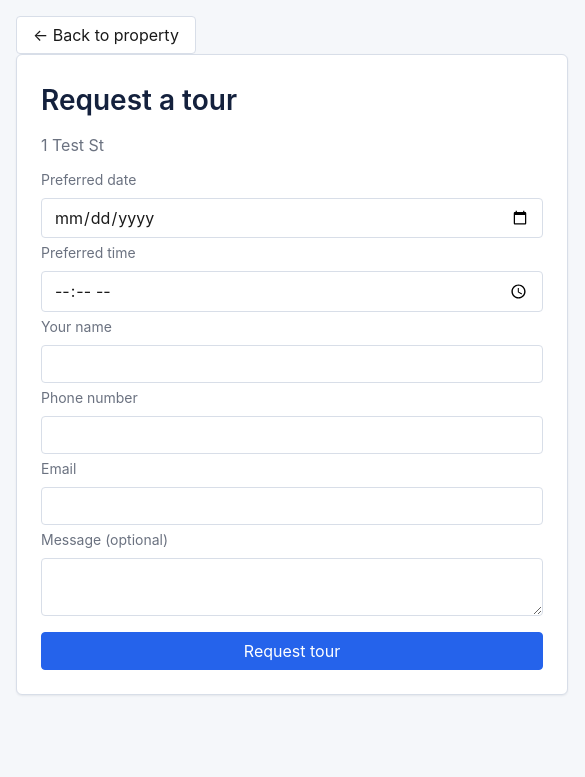
Test: TourRequestPage › shows the request was received even when the confirmation email could not be sent
This screenshot has width=585, height=777.
Expected: the text "1 Test St" is shown, [41,135,104,155]
Type "2026-10-01" into the date field labelled "Preferred date".
click(292, 218); type("2026-10-01")  # box [41,198,543,238]
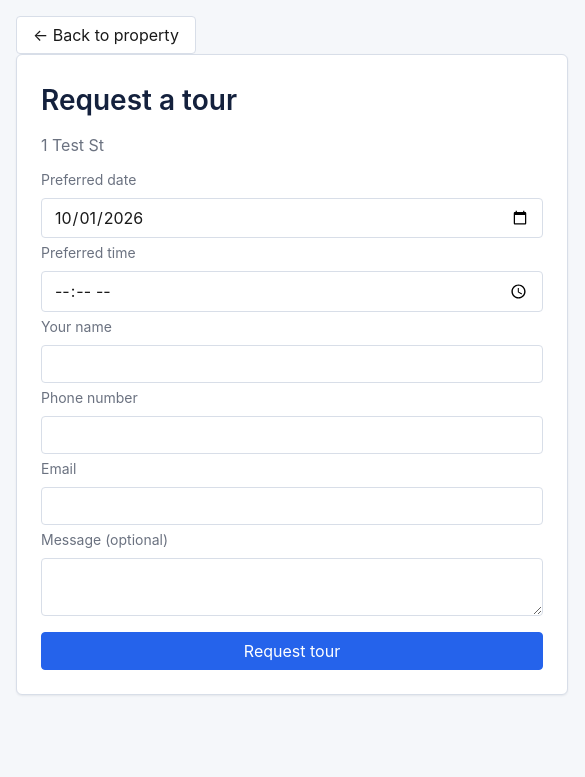
Type "14:30" into the time field labelled "Preferred time".
click(292, 291); type("14:30")  # box [41,271,543,312]
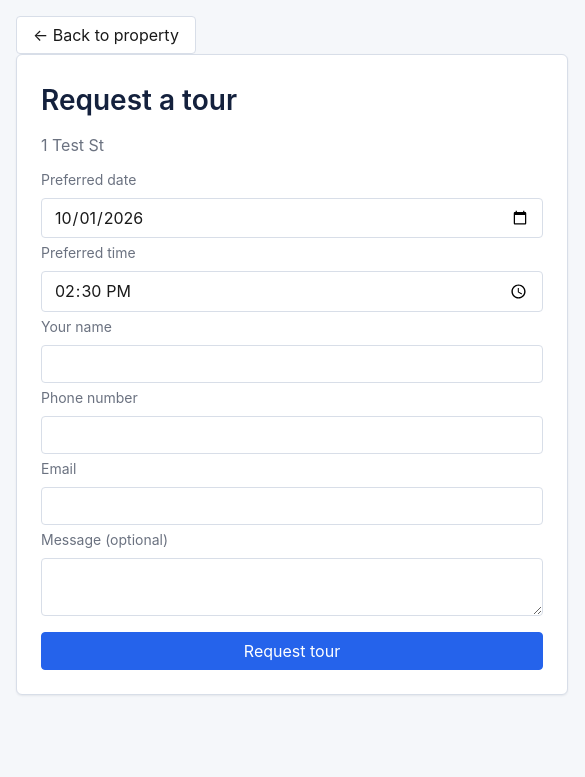
Type "Jordan Buyer" into the field labelled "Your name".
click(292, 364); type("Jordan Buyer")  # box [41,345,543,383]
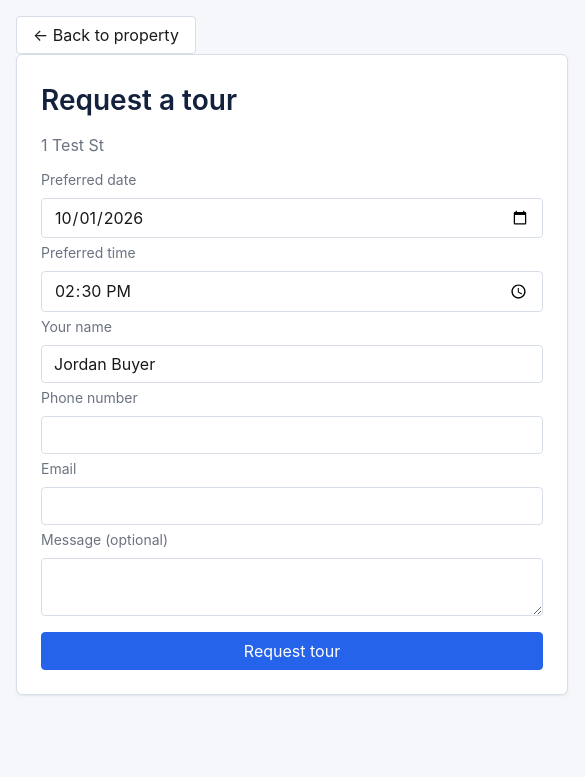
Type "555-0100" into the field labelled "Phone number".
click(292, 435); type("555-0100")  # box [41,416,543,454]
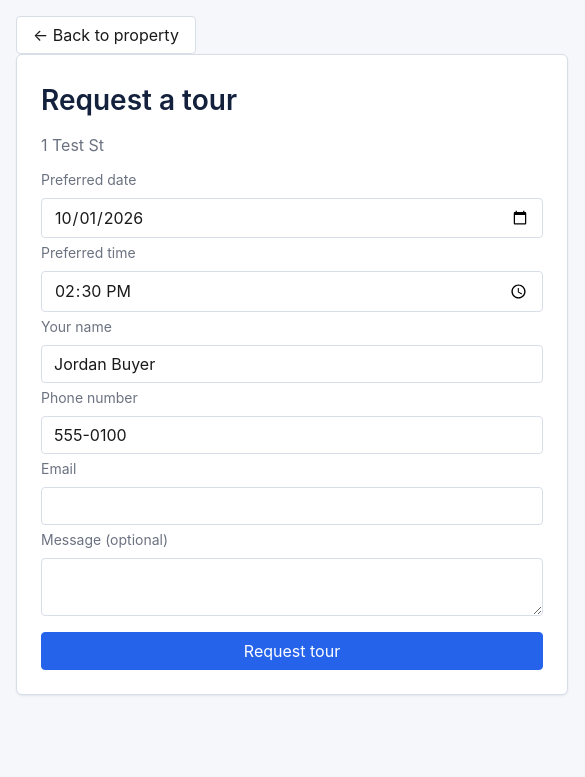
Type "jordan@example.com" into the field labelled "Email".
click(292, 506); type("jordan@example.com")  # box [41,487,543,525]
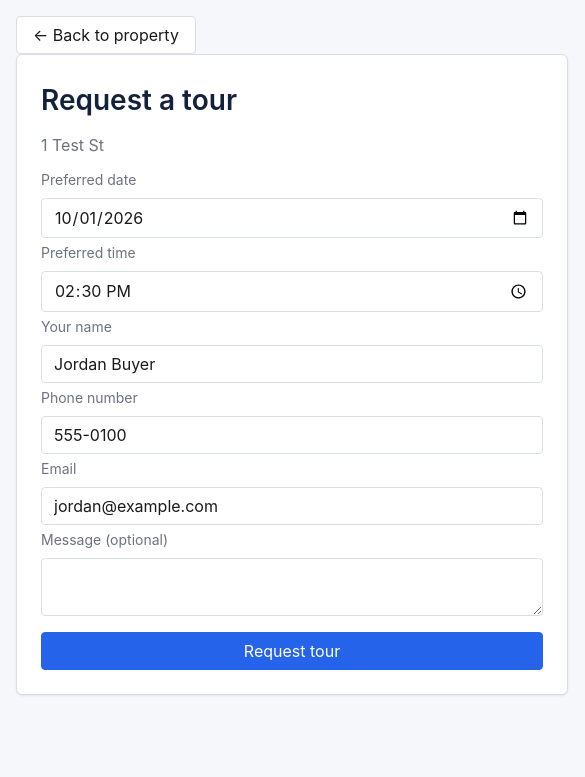
Click the button "Request tour".
click(292, 651)  # box [41,632,543,670]
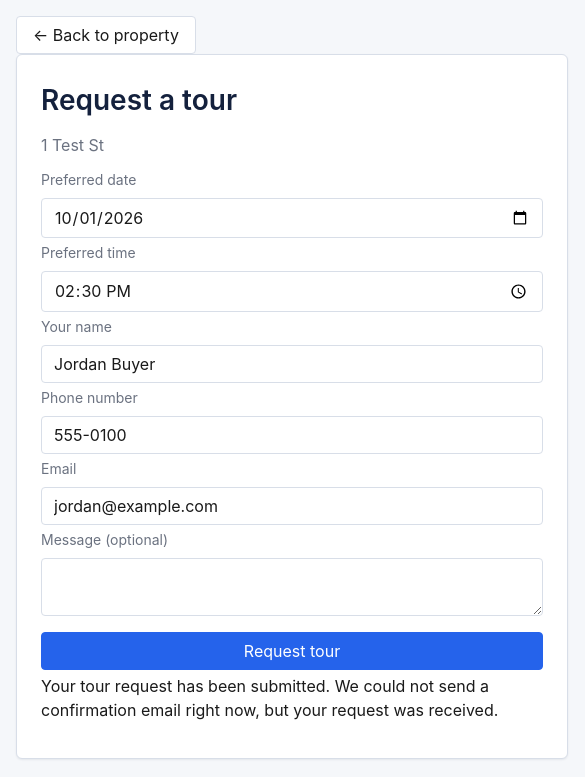
Now the text "could not send a confirmation email" is shown, box [41,676,498,720]
